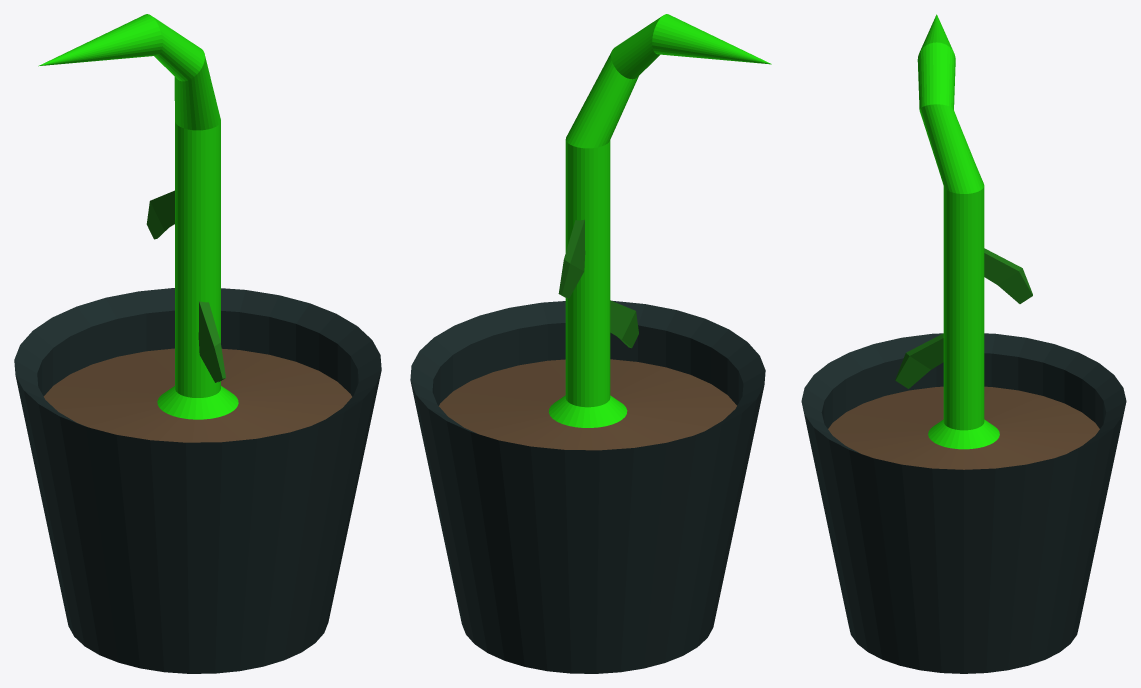
The model's file is PotPlant_01.fbx.
The picture shows the model from 3 angles, left to right: view 1: azimuth 30°, elevation 25°; view 2: azimuth 150°, elevation 25°; view 3: azimuth 270°, elevation 25°; orthographic projection. The views are drawn at different scales.
Visible parts, largest first — view 1: Pot_Plant_Dead; view 2: Pot_Plant_Dead; view 3: Pot_Plant_Dead.
Boxes of the visible parts, x1,y1,x2,y2 form: Pot_Plant_Dead: (14,14,381,673); Pot_Plant_Dead: (410,14,771,673); Pot_Plant_Dead: (801,14,1126,673).
Size of the model in its own units: 144 by 259 by 137.
